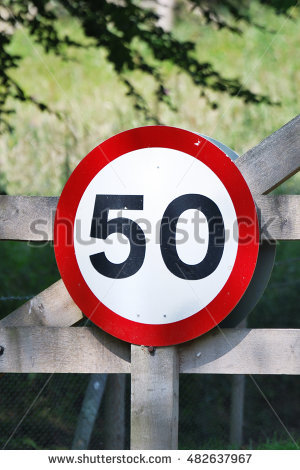Speed_limit_50km: (53, 124, 262, 346)
